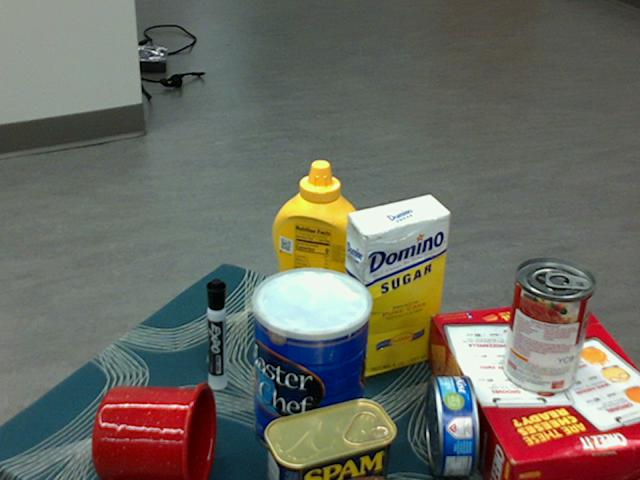cracker_box: (425, 301, 639, 479)
large_marker: (205, 278, 225, 390)
master_chef_can: (253, 268, 373, 463)
mug: (91, 382, 216, 479)
mustard_bottle: (270, 160, 364, 341)
potted_meat_can: (264, 399, 396, 479)
sugar_box: (339, 196, 451, 380)
tomato_soup_can: (501, 259, 594, 396)
tuna_fish_can: (426, 375, 480, 476)
